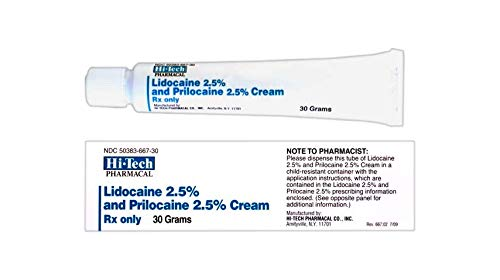2.5%: (167, 178, 199, 206), (194, 191, 223, 219)
Cream: (232, 191, 272, 219)
Lidocaine: (100, 178, 161, 206)
Prilocaine: (129, 199, 269, 210)
